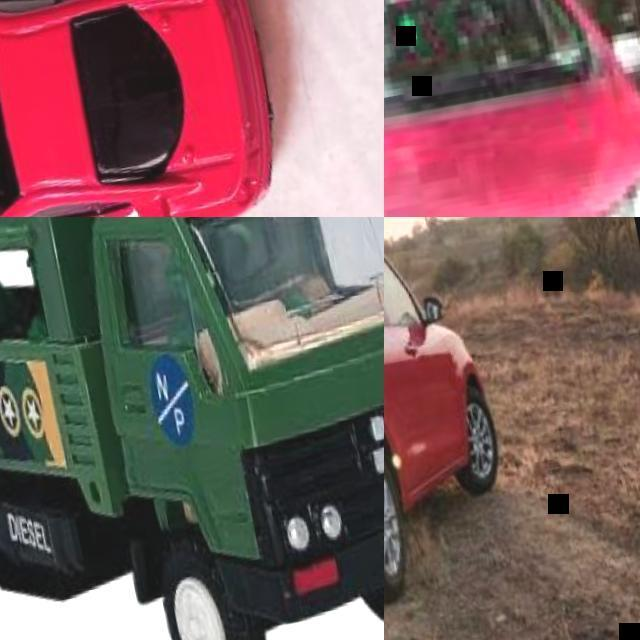car: (0, 0, 495, 623)
